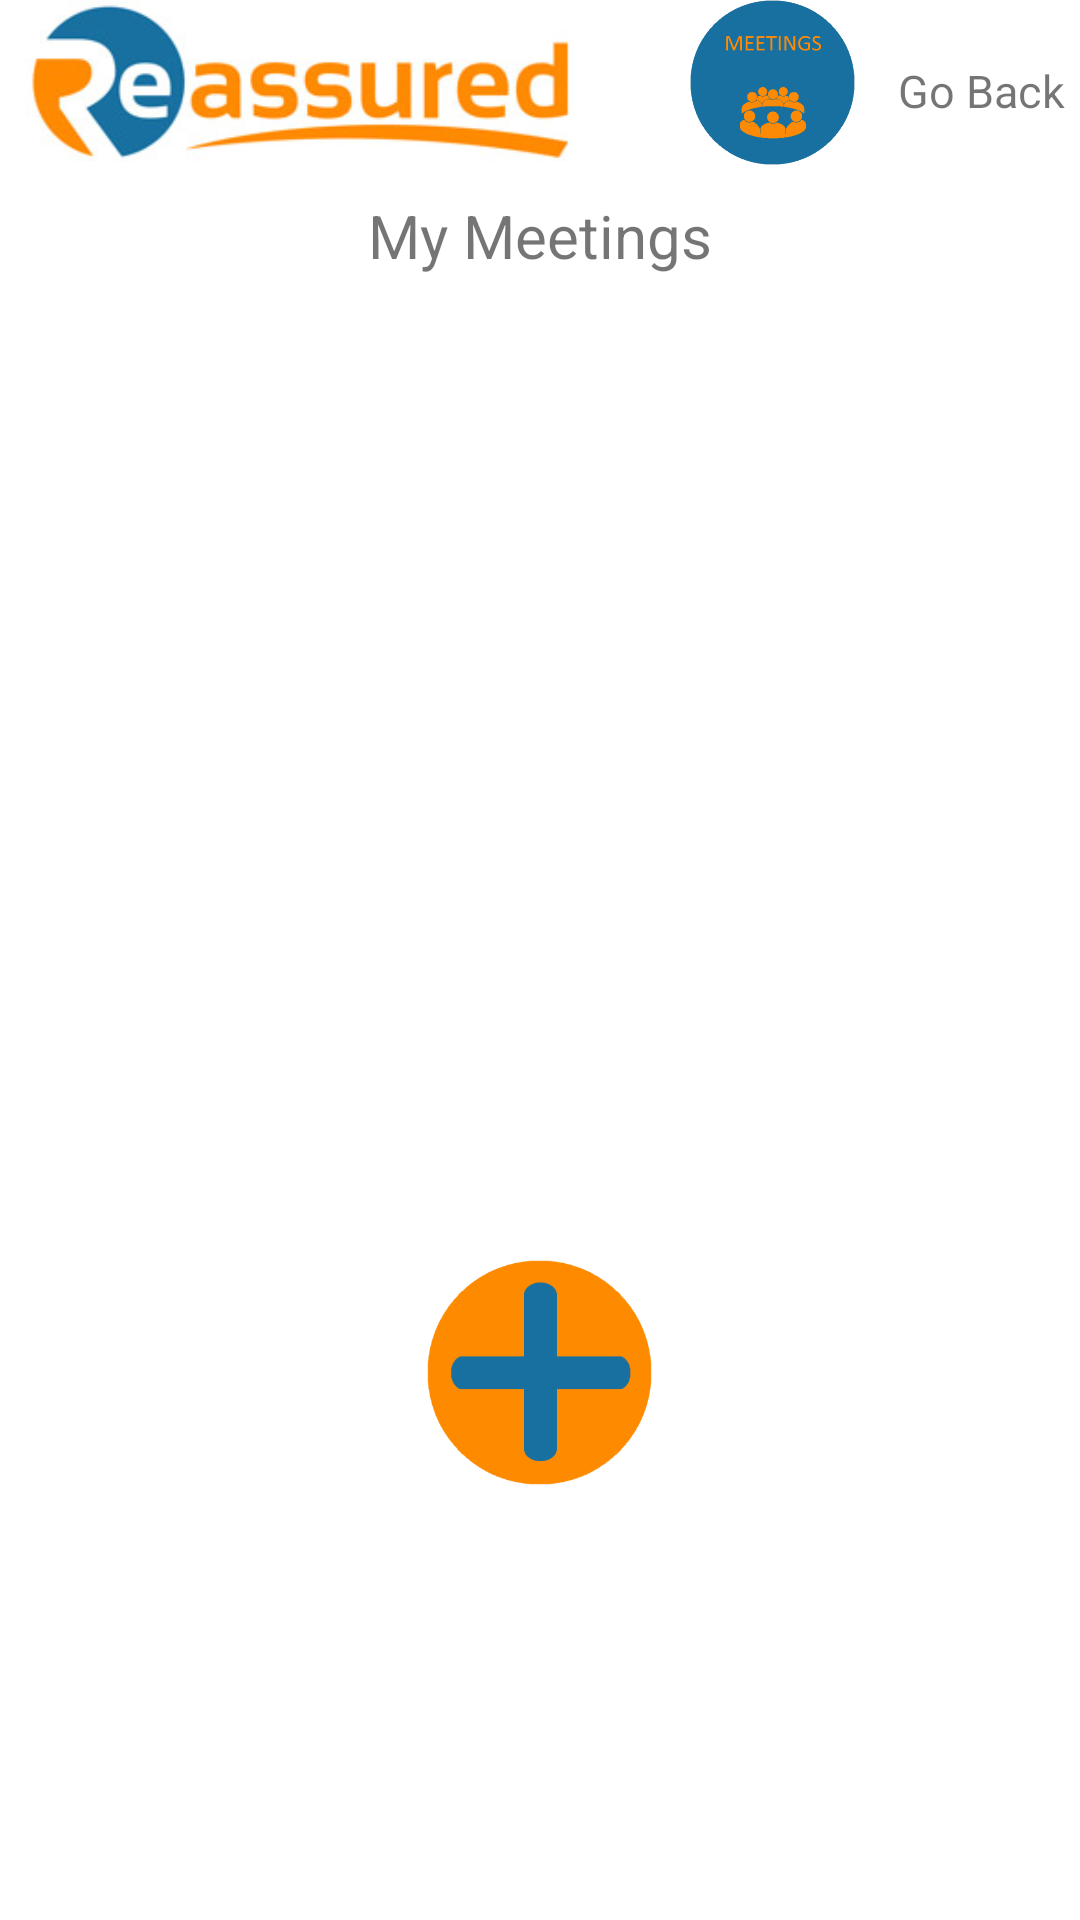

Named icons in this screenshot (1080px×1920px) and their centers, (x=x, y=y):
plus: (x=539, y=1372)
